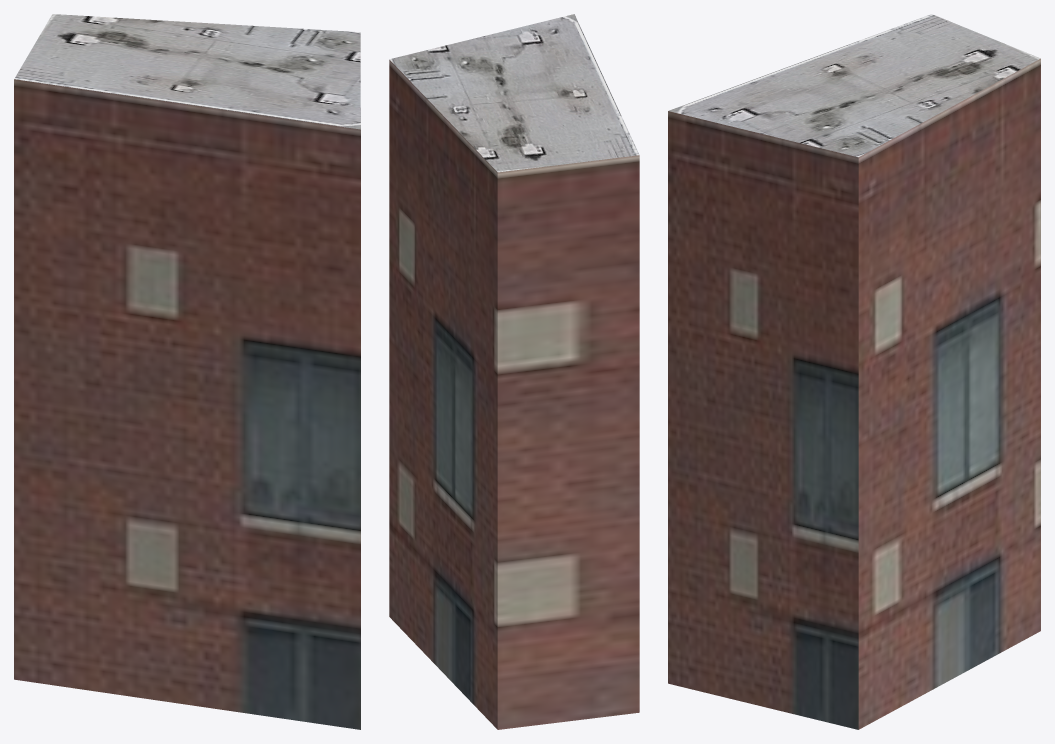
File: RelTex__8.fbx
3 views of the same model, side by side, from view 1: azimuth 30°, elevation 25°; view 2: azimuth 150°, elevation 25°; view 3: azimuth 270°, elevation 25° (orthographic). The views are drawn at different scales.
Parts seen in each view (by area): view 1: CityEngineMaterial_15_m, CityEngineMaterial_14_m; view 2: CityEngineMaterial_15_m, CityEngineMaterial_14_m; view 3: CityEngineMaterial_15_m, CityEngineMaterial_14_m.
Part boxes in pixels (left/top/right/bottom): CityEngineMaterial_15_m: left=14, top=79, right=360, bottom=729; CityEngineMaterial_14_m: left=14, top=14, right=360, bottom=129; CityEngineMaterial_15_m: left=389, top=60, right=639, bottom=729; CityEngineMaterial_14_m: left=389, top=14, right=639, bottom=172; CityEngineMaterial_15_m: left=668, top=58, right=1040, bottom=729; CityEngineMaterial_14_m: left=669, top=14, right=1040, bottom=157.
Bounding box in the file's own units: 3.22 × 6 × 3.54.
2 materials, 2 textured.
